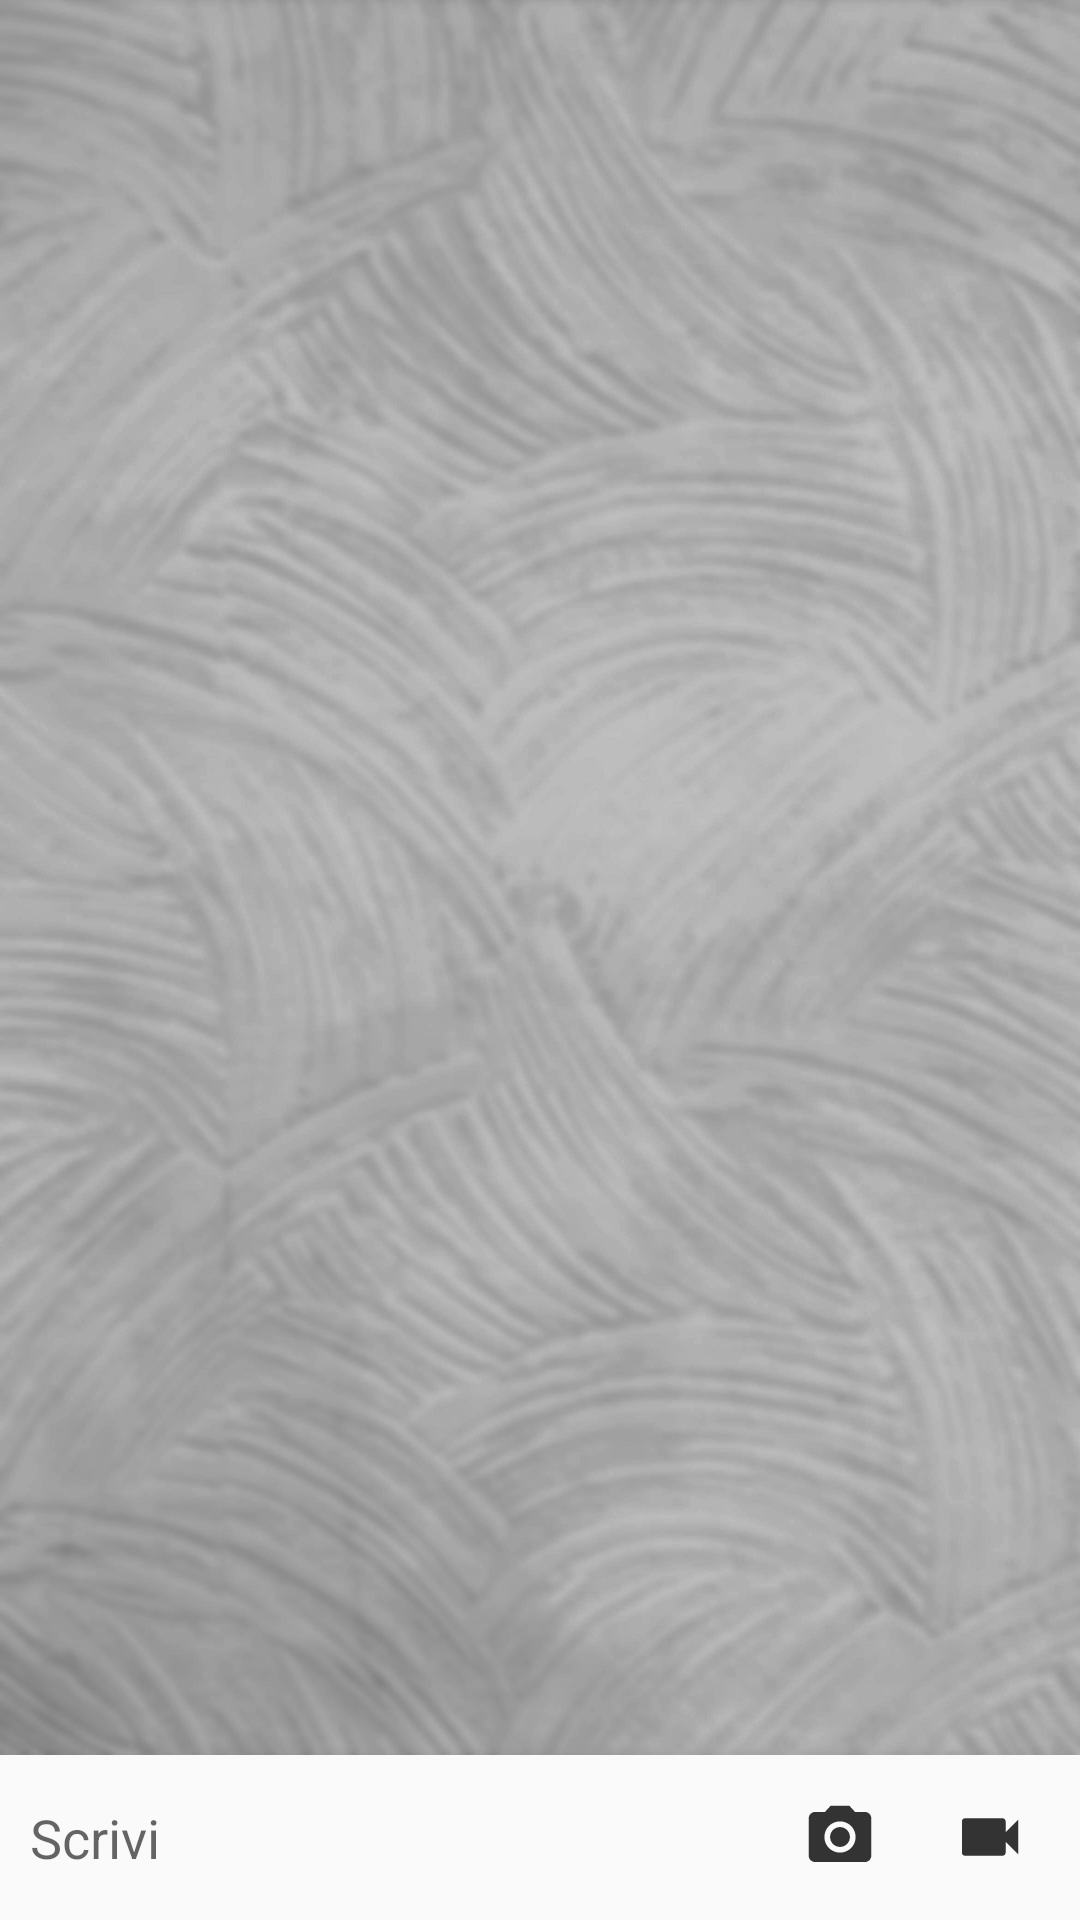

Screen size 1080w x 1920h. Icon name, then its center in pixels as point (x, y):
camera: point (840, 1833)
video: point (990, 1837)
